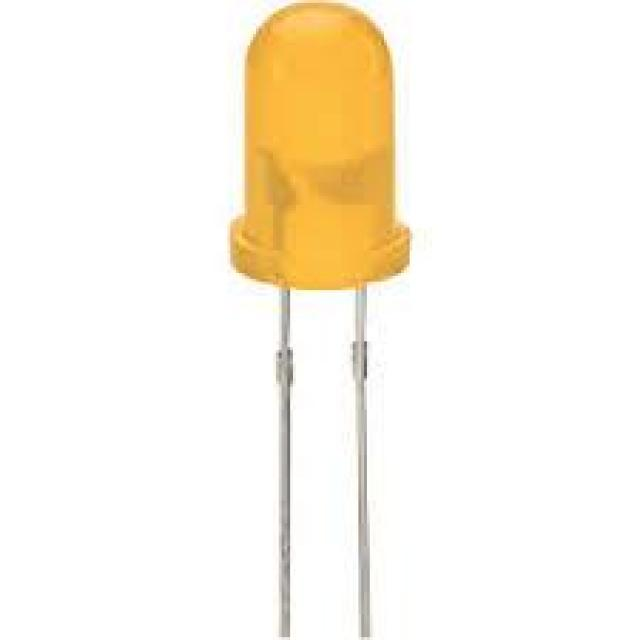Led: (231, 2, 410, 638)
